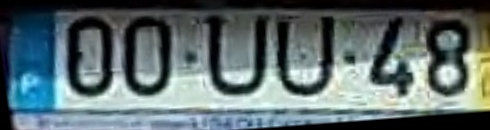0: (63, 13, 118, 103), (121, 13, 176, 100)
4: (366, 14, 417, 100)
8: (421, 16, 473, 102)
U: (204, 15, 270, 101), (273, 14, 338, 101)
